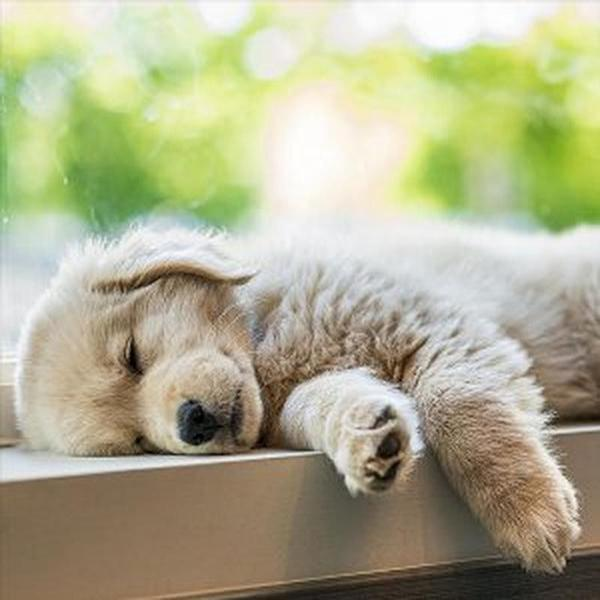allqu: (13, 203, 600, 580)
